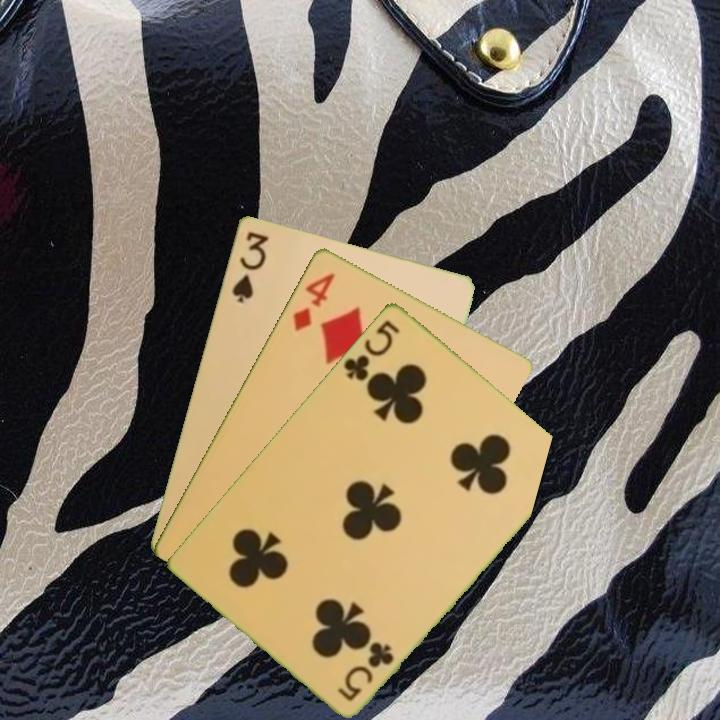3s: (228, 227, 271, 305)
4d: (289, 268, 338, 333)
5c: (339, 315, 403, 384), (334, 637, 397, 704)
